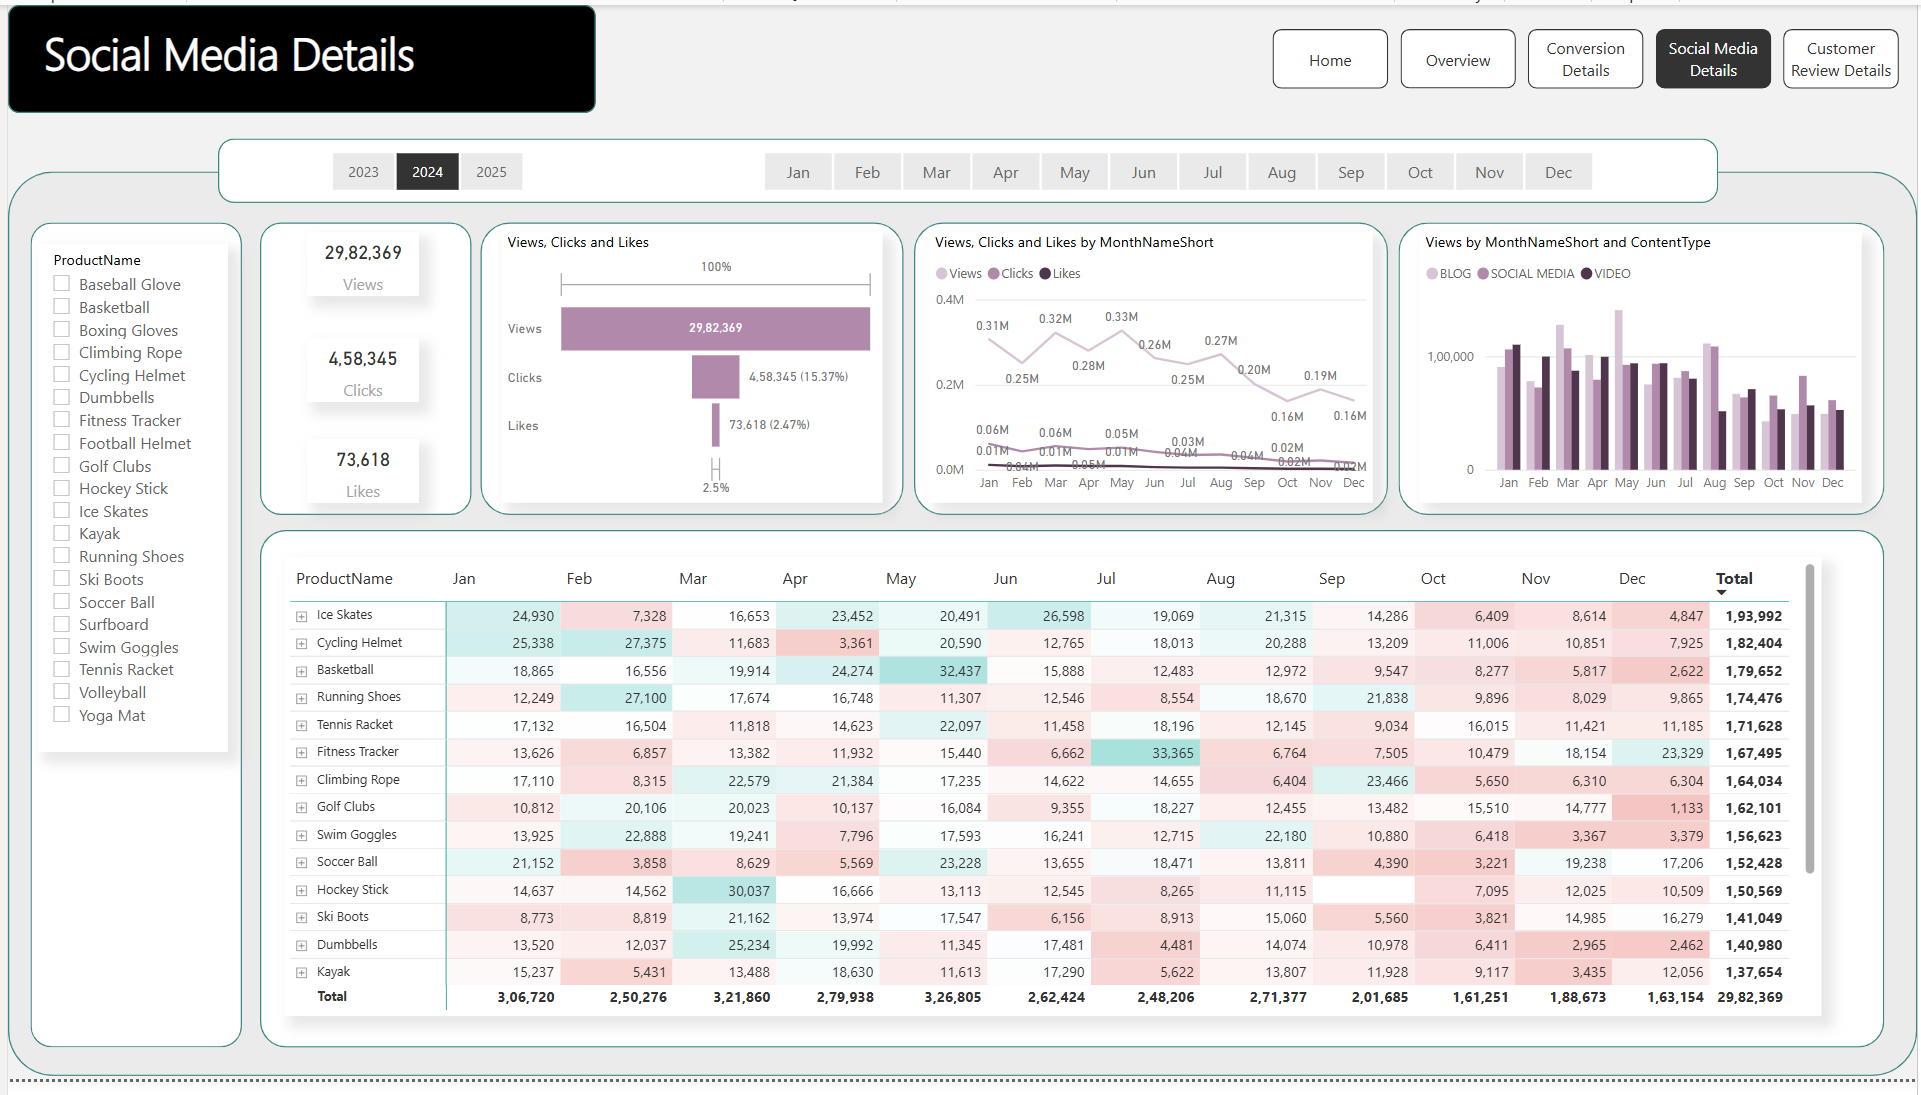

The dashboard page shown, as its layout file describes it:
{"tool":"powerbi","page":{"name":"Social Media Details","canvas":[1600,900],"ordinal":3},"visuals":[{"type":"shape","box":[0,139.6,1600.4,758.1],"z":0},{"type":"shape","box":[759.4,182.3,397.3,245.2],"z":1000},{"type":"shape","box":[1165.4,182.3,407.3,245.2],"z":2000},{"type":"shape","box":[396,182.3,354.5,245.2],"z":3000},{"type":"shape","box":[211.2,440,1361.6,433.7],"z":4000},{"type":"shape","box":[211.2,182.3,177.3,245.2],"z":5000},{"type":"shape","box":[18.9,182.3,177.3,691.5],"z":6000},{"type":"shape","box":[176,111.9,1257.2,54.1],"z":7000},{"type":"slicer","fields":{"Values":["dim_products.ProductName"]},"box":[25.1,199.9,159.7,426.2],"z":8000},{"type":"lineChart","fields":{"Y":["_Calculations.Views","_Calculations.Clicks","_Calculations.Likes"],"Category":["Calendar.MonthNameShort"]},"box":[771.9,189.8,372.1,227.6],"z":9000},{"type":"funnel","fields":{"Y":["_Calculations.Views","_Calculations.Clicks","_Calculations.Likes"]},"box":[413.6,189.8,319.3,227.6],"z":10000},{"type":"card","fields":{"Values":["_Calculations.Views"]},"box":[250.2,189.8,94.3,54.1],"z":11000},{"type":"card","fields":{"Values":["_Calculations.Clicks"]},"box":[250.2,279.1,94.3,54.1],"z":12000},{"type":"card","fields":{"Values":["_Calculations.Likes"]},"box":[250.2,363.3,94.3,54.1],"z":13000},{"type":"slicer","fields":{"Values":["Calendar.MonthNameShort"]},"box":[608.5,116.9,743,45.3],"z":14000},{"type":"slicer","fields":{"Values":["Calendar.Year"]},"box":[246.4,116.9,208.7,45.3],"z":15000},{"type":"pivotTable","fields":{"Rows":["dim_products.ProductName","fact_engagement.ContentType"],"Values":["_Calculations.Views"],"Columns":["Calendar.MonthNameShort"]},"box":[231.3,462.7,1288.6,384.7],"z":16000},{"type":"clusteredColumnChart","fields":{"Category":["Calendar.MonthNameShort"],"Series":["fact_engagement.ContentType"],"Y":["_Calculations.Views"]},"box":[1183,189.8,370.9,227.6],"z":17000},{"type":"shape","box":[0,0,492.8,90.5],"z":18000},{"type":"pageNavigator","box":[1059.8,20.1,526.8,50.3],"z":19000},{"type":"textbox","box":[25.1,8.8,345.7,71.7],"z":20000}]}

Visuals, with their boxes in screenshot pixels (x1, y1, x2, y2), scaled from the page's 1600x900 canvas onto the 1921x1095 screenshot:
shape: bbox=(0, 170, 1920, 1092)
shape: bbox=(912, 222, 1389, 520)
shape: bbox=(1399, 222, 1888, 520)
shape: bbox=(475, 222, 901, 520)
shape: bbox=(254, 535, 1888, 1063)
shape: bbox=(254, 222, 466, 520)
shape: bbox=(23, 222, 236, 1063)
shape: bbox=(211, 136, 1721, 202)
slicer - dim_products.ProductName: bbox=(30, 243, 222, 762)
lineChart - _Calculations.Views x _Calculations.Clicks: bbox=(927, 231, 1374, 508)
funnel - _Calculations.Views x _Calculations.Clicks: bbox=(497, 231, 880, 508)
card - _Calculations.Views: bbox=(300, 231, 414, 297)
card - _Calculations.Clicks: bbox=(300, 340, 414, 405)
card - _Calculations.Likes: bbox=(300, 442, 414, 508)
slicer - Calendar.MonthNameShort: bbox=(731, 142, 1623, 197)
slicer - Calendar.Year: bbox=(296, 142, 546, 197)
pivotTable - dim_products.ProductName x fact_engagement.ContentType: bbox=(278, 563, 1825, 1031)
clusteredColumnChart - Calendar.MonthNameShort x fact_engagement.ContentType: bbox=(1420, 231, 1866, 508)
shape: bbox=(0, 0, 592, 110)
pageNavigator: bbox=(1272, 24, 1905, 86)
textbox: bbox=(30, 11, 445, 98)
